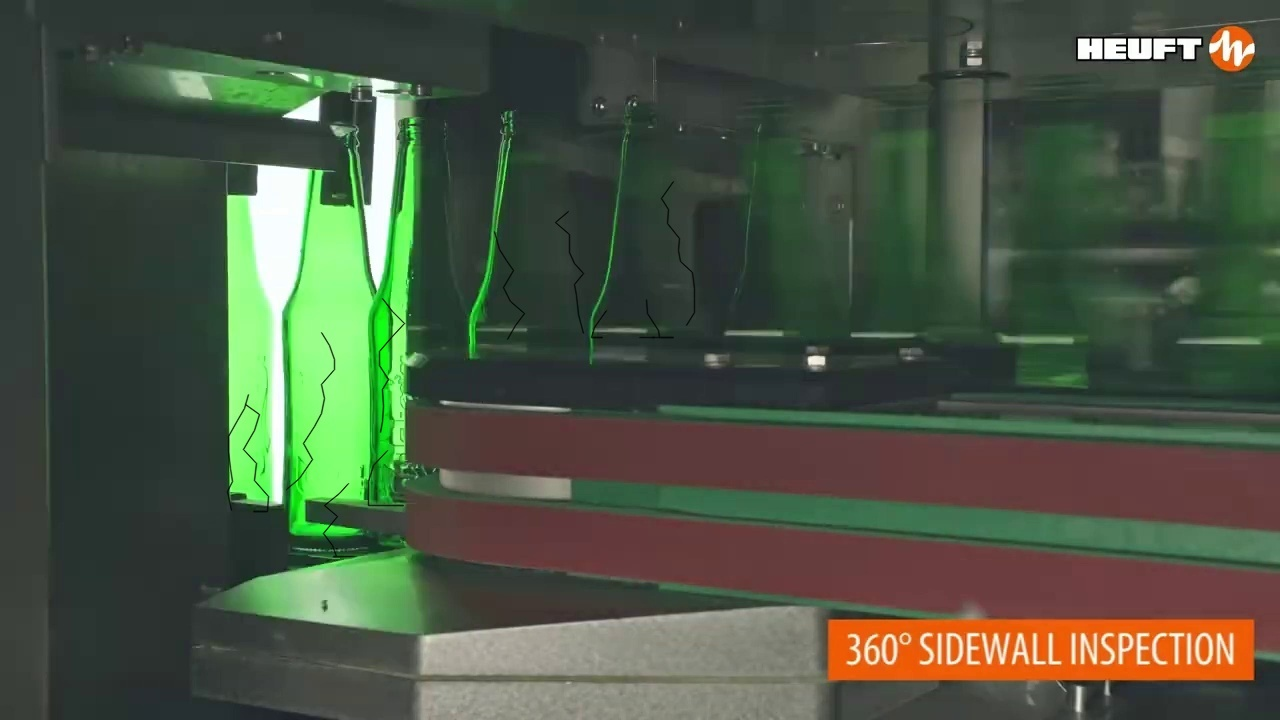bottle: (283, 122, 385, 550), (371, 118, 471, 505), (473, 112, 590, 358), (225, 196, 279, 499)
crack: (661, 181, 694, 325), (379, 298, 404, 432), (494, 231, 524, 339), (243, 404, 268, 511), (323, 483, 354, 556), (591, 310, 606, 337)
